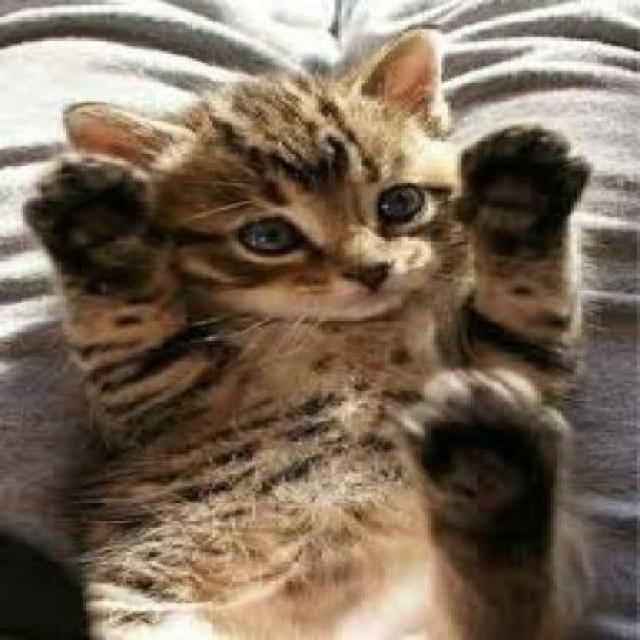cat: (24, 26, 594, 640)
